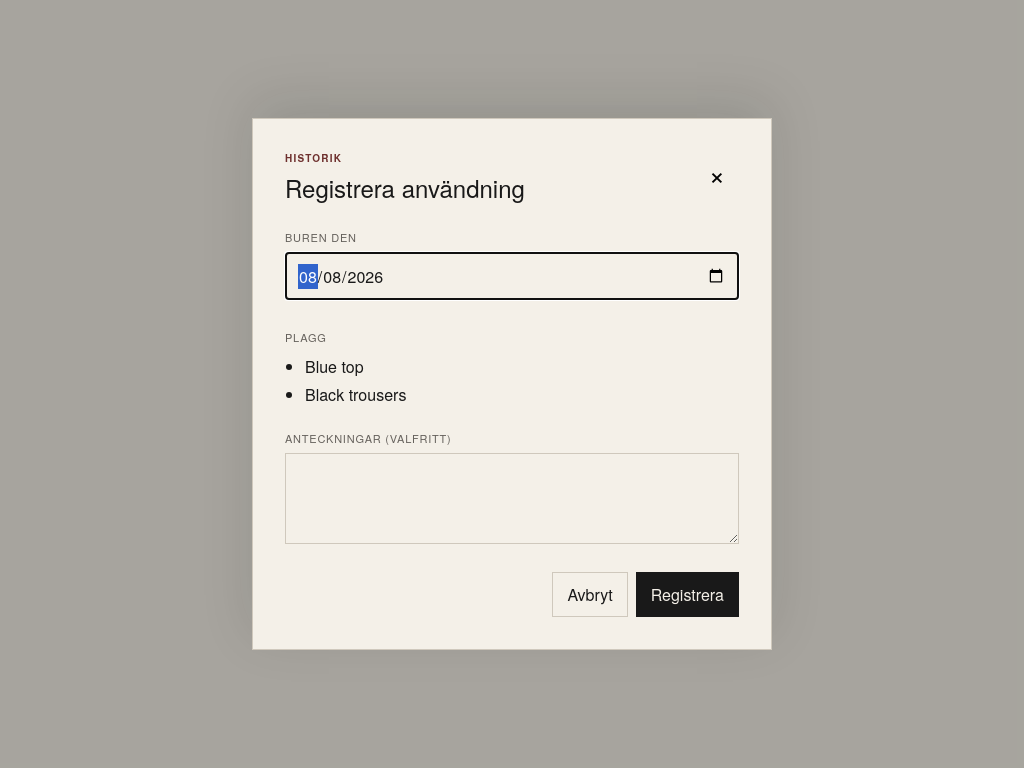
Test: WearDialog › preserves the backfilled date and selection when recording fails
Type "2026-06-02" into the date field labelled "Buren den" at (512, 276), box 285,252 -> 739,300
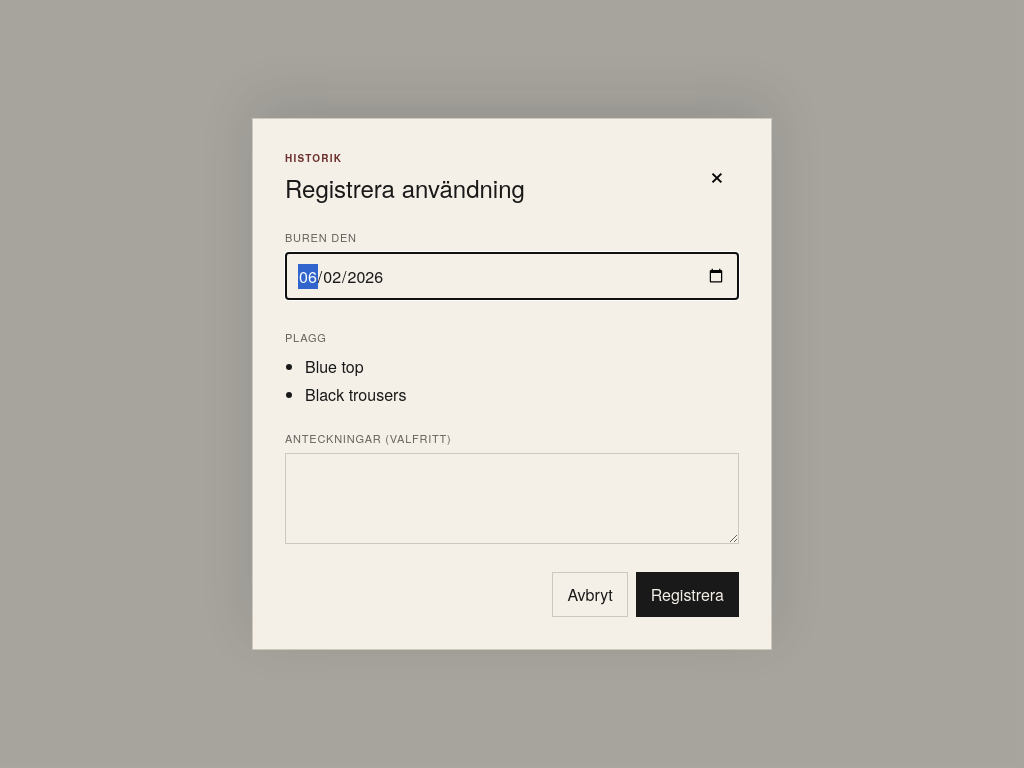
Click the button "Registrera" at (687, 594), box 636,572 -> 739,617
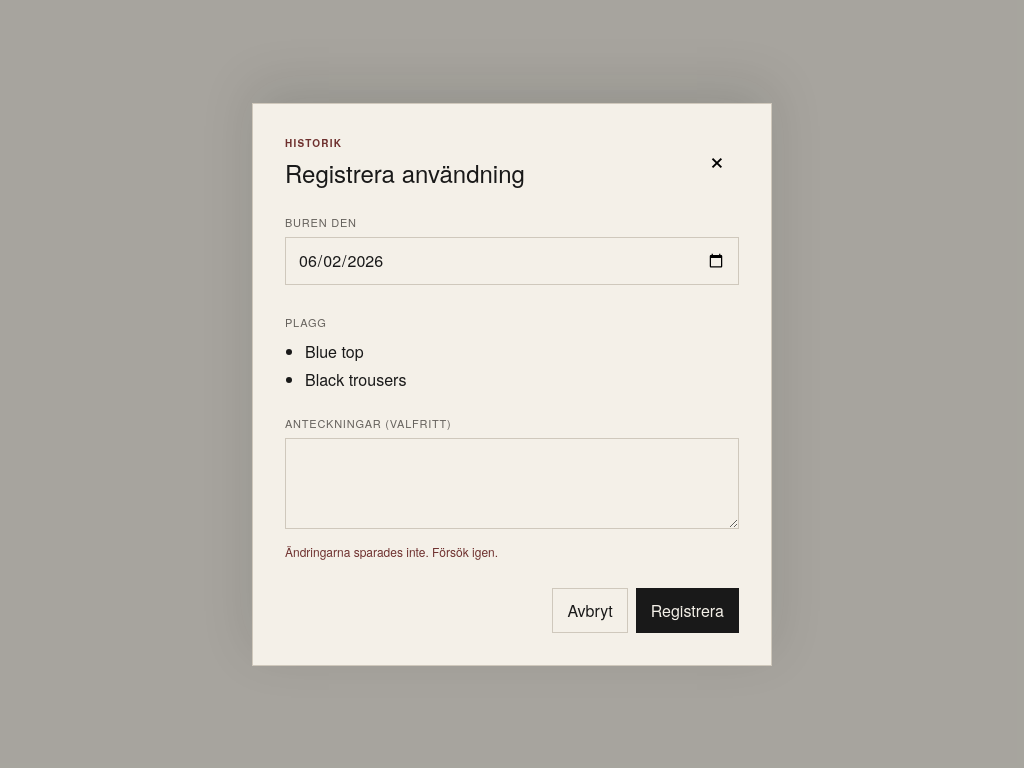
expect the dialog "Registrera användning" is shown: met, box 252,102 -> 772,666
expect the message reads "Ändringarna sparades inte. Försök igen.": met, box 285,542 -> 498,560
